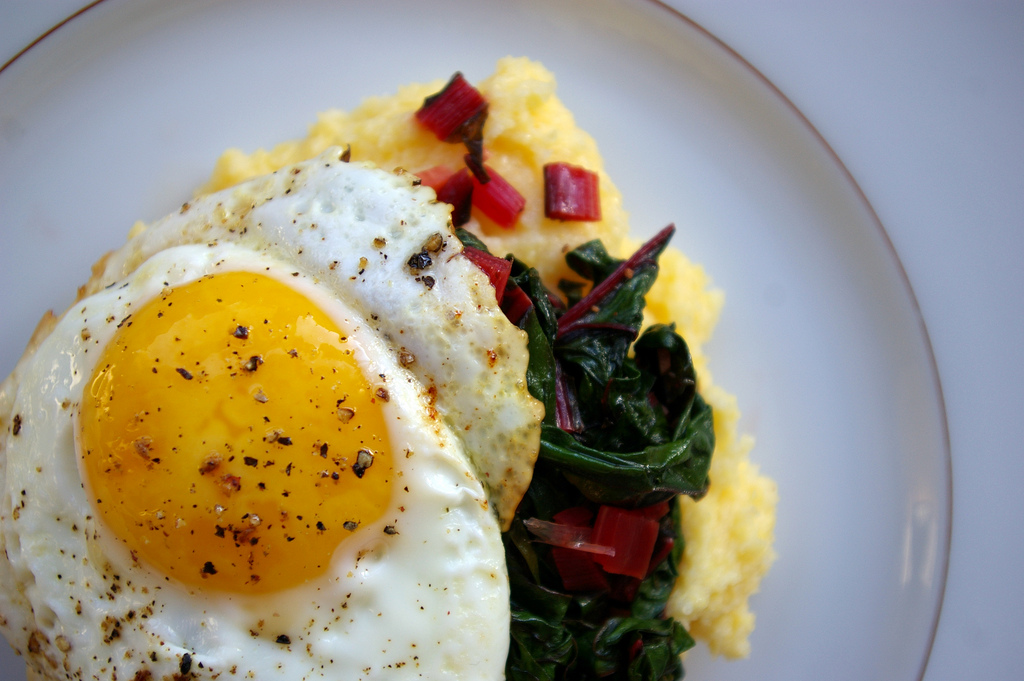fried egg: (11, 174, 542, 681)
